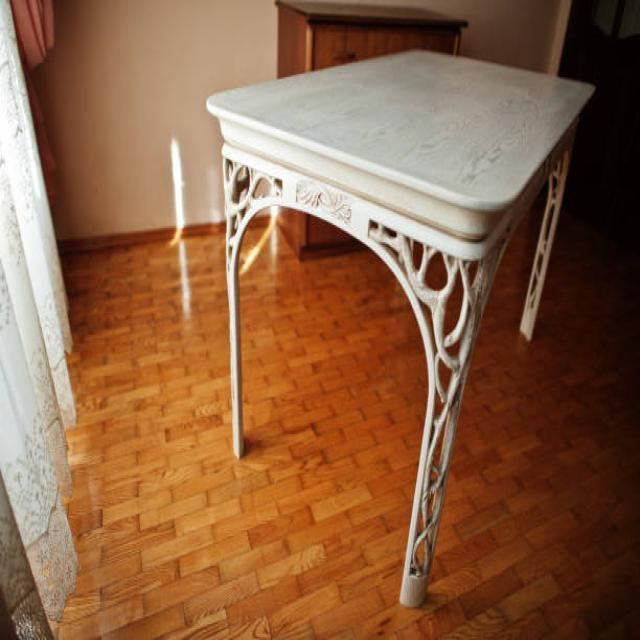table: (205, 44, 595, 607)
